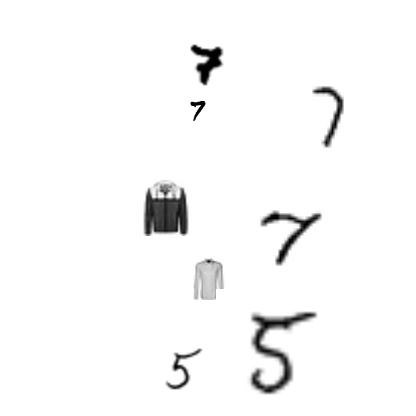5: (216, 289, 328, 401), (154, 341, 210, 397)
7: (246, 187, 330, 271), (289, 69, 373, 153), (179, 33, 235, 89), (184, 93, 212, 121)
Coat: (138, 180, 194, 236)
Shirt: (188, 258, 230, 300)
